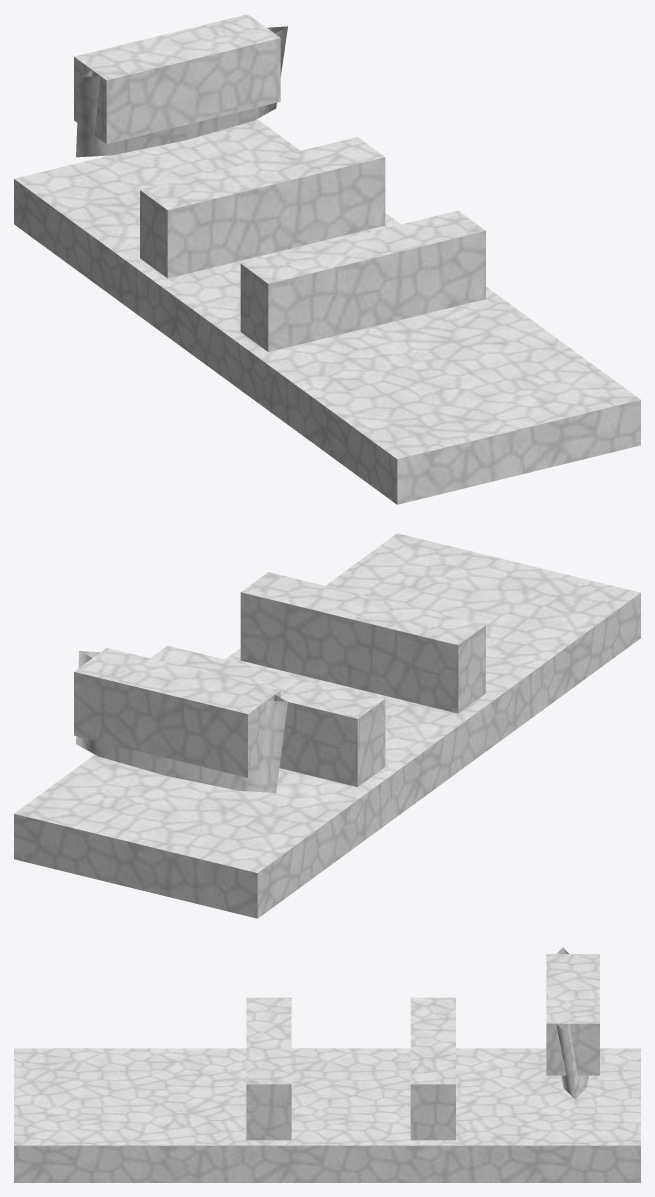
Rendered from shoes_sandals_r.glb.
3 views of the same model, one above another, from view 1: azimuth 30°, elevation 25°; view 2: azimuth 150°, elevation 25°; view 3: azimuth 270°, elevation 25° (orthographic). The views are drawn at different scales.
Visible parts, largest first — view 1: shoes_sandals_r; view 2: shoes_sandals_r; view 3: shoes_sandals_r.
Boxes of the visible parts, x1,y1,x2,y2 form: shoes_sandals_r: (14, 14, 640, 504); shoes_sandals_r: (14, 533, 640, 918); shoes_sandals_r: (14, 947, 640, 1182).
Size of the model in its own units: 0.112 by 0.078 by 0.305.
Materials: 1 (1 with a texture image).
